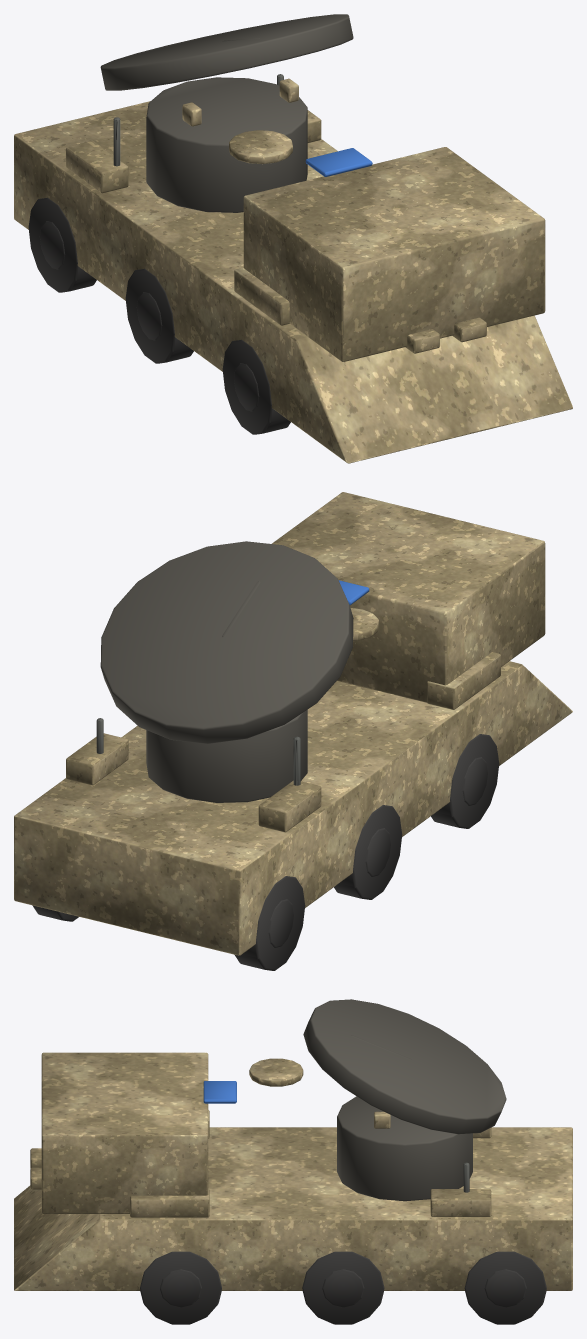
The model's file is rad_e4_us_illuminator_LOD0.glb.
3 views of the same model, one above another, from view 1: azimuth 30°, elevation 25°; view 2: azimuth 150°, elevation 25°; view 3: azimuth 270°, elevation 25° (orthographic). The views are drawn at different scales.
Parts seen in each view (by area): view 1: rad_e4_us_illuminator_LOD0_body, rad_e4_us_illuminator_LOD0_deck, rad_e4_us_illuminator_LOD0_track, rad_e4_us_illuminator_LOD0_team; view 2: rad_e4_us_illuminator_LOD0_body, rad_e4_us_illuminator_LOD0_deck, rad_e4_us_illuminator_LOD0_track, rad_e4_us_illuminator_LOD0_gun; view 3: rad_e4_us_illuminator_LOD0_body, rad_e4_us_illuminator_LOD0_deck, rad_e4_us_illuminator_LOD0_track, rad_e4_us_illuminator_LOD0_team.
Boxes of the visible parts, x1,y1,x2,y2 form: rad_e4_us_illuminator_LOD0_body: (14,78,572,463); rad_e4_us_illuminator_LOD0_deck: (100,14,353,212); rad_e4_us_illuminator_LOD0_track: (28,197,290,434); rad_e4_us_illuminator_LOD0_team: (305,148,372,176); rad_e4_us_illuminator_LOD0_body: (14,492,572,955); rad_e4_us_illuminator_LOD0_deck: (100,541,353,802); rad_e4_us_illuminator_LOD0_track: (32,734,499,970); rad_e4_us_illuminator_LOD0_gun: (96,718,300,785); rad_e4_us_illuminator_LOD0_body: (14,1052,572,1290); rad_e4_us_illuminator_LOD0_deck: (303,999,506,1201); rad_e4_us_illuminator_LOD0_track: (140,1251,546,1324); rad_e4_us_illuminator_LOD0_team: (203,1081,236,1103).
Bounding box in the file's own units: 2.94 × 3.77 × 7.39.
Materials: 5 (1 with a texture image).
